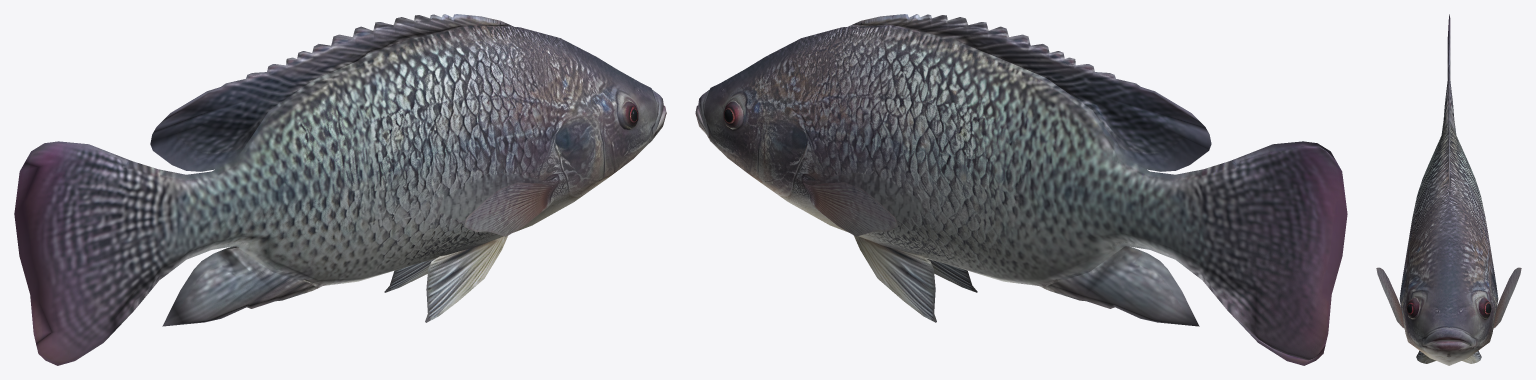
File: tilapia.glb
3 renders of one model, left to right at view 1: azimuth 30°, elevation 25°; view 2: azimuth 150°, elevation 25°; view 3: azimuth 270°, elevation 25°, orthographic. The views are drawn at different scales.
Visible parts, largest first — view 1: tripo_node_f96a4865-f1c7-4554-a644-4c7e8295cd48; view 2: tripo_node_f96a4865-f1c7-4554-a644-4c7e8295cd48; view 3: tripo_node_f96a4865-f1c7-4554-a644-4c7e8295cd48.
Part boxes in pixels (box(x1,y1,x2,y2)): tripo_node_f96a4865-f1c7-4554-a644-4c7e8295cd48: box(14, 14, 666, 365); tripo_node_f96a4865-f1c7-4554-a644-4c7e8295cd48: box(695, 14, 1347, 365); tripo_node_f96a4865-f1c7-4554-a644-4c7e8295cd48: box(1376, 14, 1521, 365).
Size of the model in its own units: 0.9995 by 0.4321 by 0.2437.
1 material, 1 textured.
